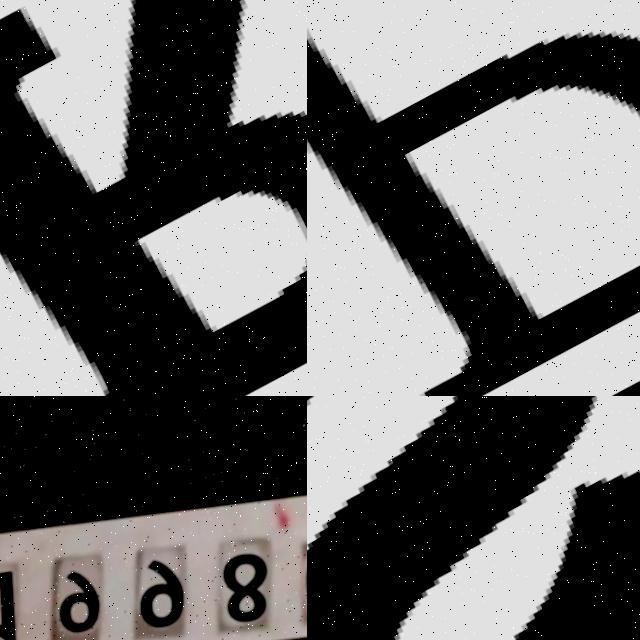0: (263, 512, 307, 640)
1: (0, 550, 61, 640)
8: (181, 521, 307, 640)
9: (94, 524, 234, 640), (17, 539, 146, 640)
P: (307, 15, 640, 396)
R: (0, 0, 307, 396)
S: (307, 396, 640, 640)
